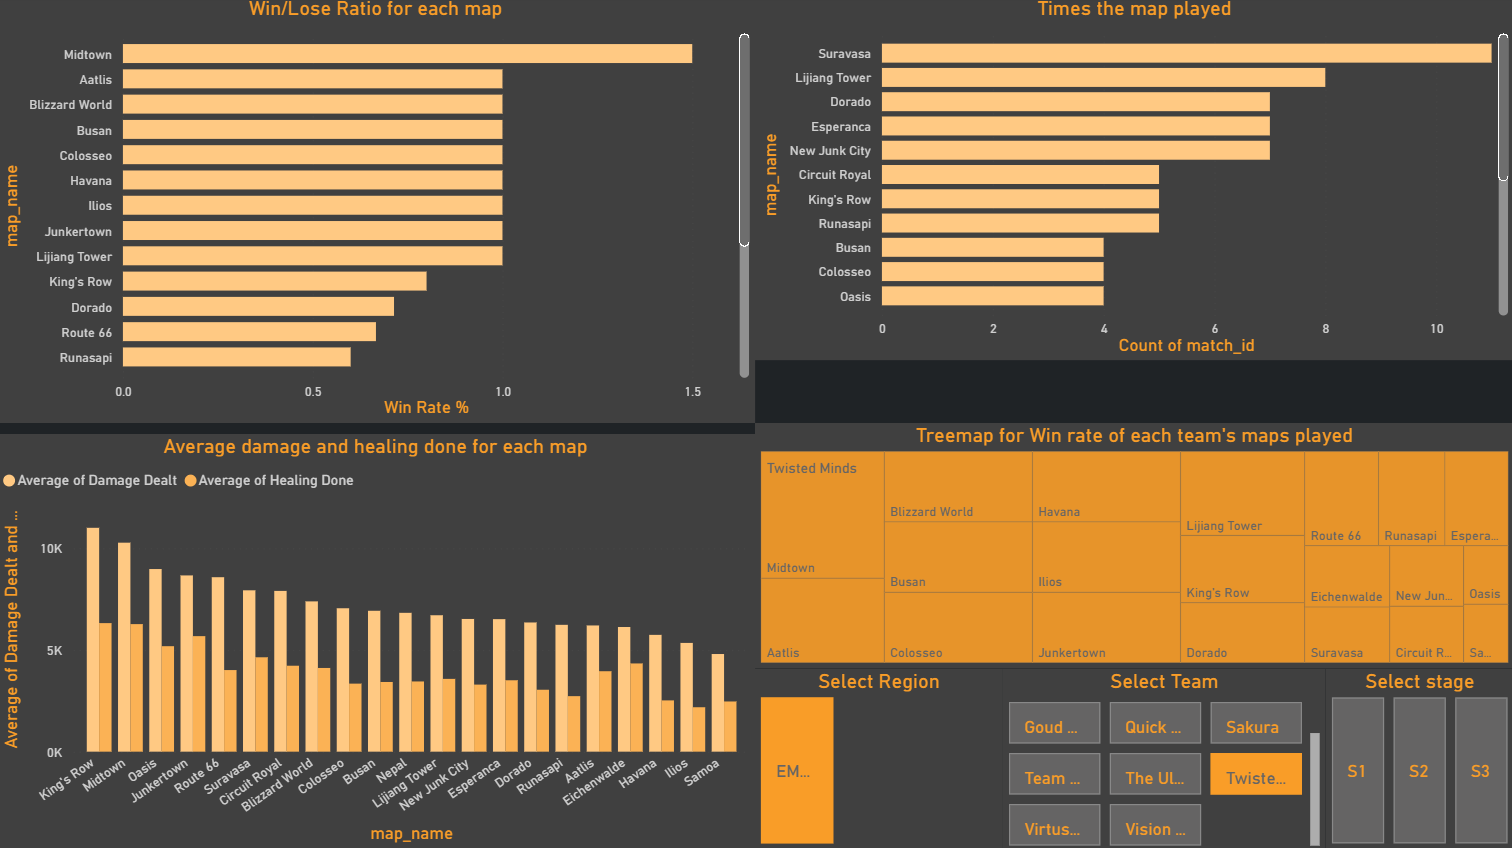

The page's visual inventory and layout, read from the dashboard file:
{"tool":"powerbi","page":{"name":"Maps","canvas":[1280,720],"ordinal":2},"visuals":[{"type":"barChart","title":"Win/Lose Ratio for each map","fields":{"Y":["faceit_all_matches_emea_na_all_stages (2).Win Rate %"],"Category":["faceit_all_matches_emea_na_all_stages (2).map_name"]},"box":[0,0,640,359.9],"z":0},{"type":"clusteredBarChart","title":"Times the map played","fields":{"Category":["faceit_all_matches_emea_na_all_stages (2).map_name"],"Y":["Count(faceit_all_matches_emea_na_all_stages (2).match_id)"]},"box":[640,0,640,307.4],"z":1000},{"type":"clusteredColumnChart","title":"Average damage and healing done for each map","fields":{"Category":["faceit_all_matches_emea_na_all_stages (2).map_name"],"Y":["Avg(faceit_all_matches_emea_na_all_stages (2).Damage Dealt)","Avg(faceit_all_matches_emea_na_all_stages (2).Healing Done)"]},"box":[0,369.6,640,350.2],"z":2000},{"type":"advancedSlicerVisual","title":"Select Region","fields":{"Values":["faceit_all_matches_emea_na_all_stages (2).region"]},"box":[640,567.1,209.1,152.7],"z":3000},{"type":"advancedSlicerVisual","title":"Select stage","fields":{"Values":["faceit_all_matches_emea_na_all_stages (2).stage"]},"box":[1121.5,567.1,158.5,152.7],"z":4000},{"type":"advancedSlicerVisual","title":"Select Team","fields":{"Values":["faceit_all_matches_emea_na_all_stages (2).team"]},"box":[849.1,567.1,272.3,152.7],"z":5000},{"type":"treemap","title":"Treemap for Win rate of each team''s maps played","fields":{"Group":["faceit_all_matches_emea_na_all_stages (2).team"],"Details":["faceit_all_matches_emea_na_all_stages (2).map_name"],"Values":["faceit_all_matches_emea_na_all_stages (2).Win Rate %"]},"box":[640,359.9,640,207.2],"z":6000}]}

Visuals, with their boxes in screenshot pixels (x1, y1, x2, y2), scaled from the page's 1280x720 canvas onto the 1512x848 screenshot:
"Win/Lose Ratio for each map" barChart: (left=0, top=0, right=756, bottom=424)
"Times the map played" clusteredBarChart: (left=756, top=0, right=1511, bottom=362)
"Average damage and healing done for each map" clusteredColumnChart: (left=0, top=435, right=756, bottom=847)
"Select Region" advancedSlicerVisual: (left=756, top=668, right=1003, bottom=847)
"Select stage" advancedSlicerVisual: (left=1325, top=668, right=1511, bottom=847)
"Select Team" advancedSlicerVisual: (left=1003, top=668, right=1325, bottom=847)
"Treemap for Win rate of each team''s maps played" treemap: (left=756, top=424, right=1511, bottom=668)
